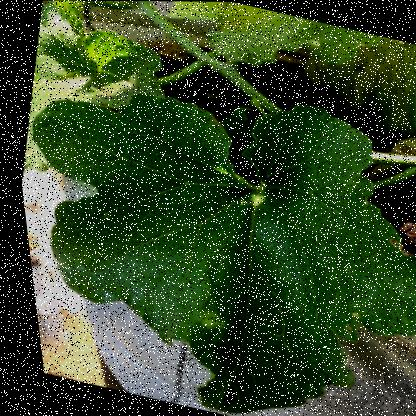Normal: (4, 44, 415, 415)
